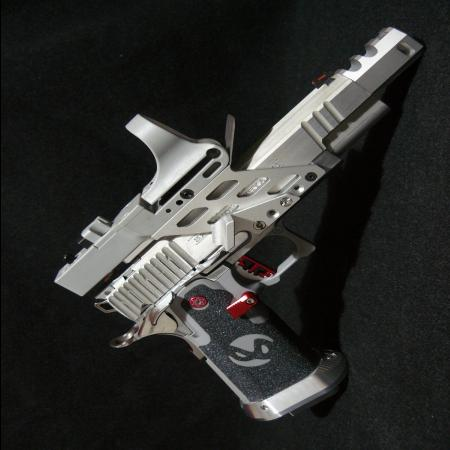Pistol: (52, 25, 428, 422)
